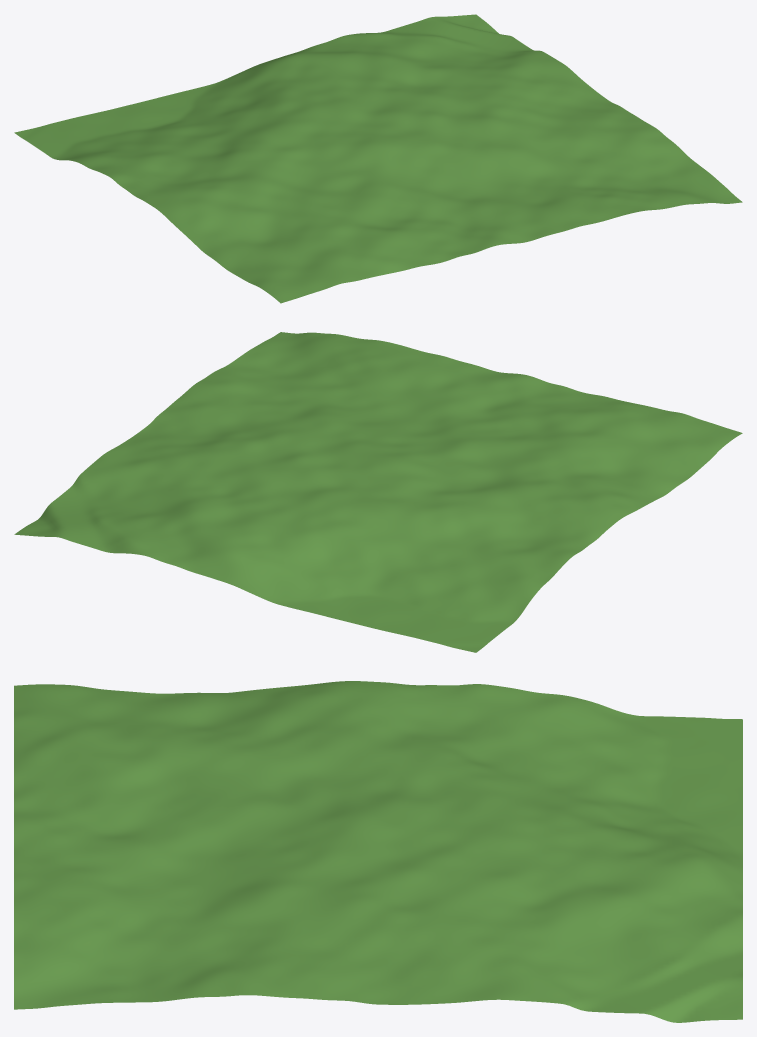
The model's file is SM_Terrain_02_03.fbx.
The picture shows the model from 3 angles, top to bottom: view 1: azimuth 30°, elevation 25°; view 2: azimuth 150°, elevation 25°; view 3: azimuth 270°, elevation 25°; orthographic projection. The views are drawn at different scales.
Visible parts, largest first — view 1: SM_Terrain_02_03; view 2: SM_Terrain_02_03; view 3: SM_Terrain_02_03.
Part boxes in pixels (x1=…): SM_Terrain_02_03: x1=14, y1=14, x2=742, y2=303; SM_Terrain_02_03: x1=14, y1=332, x2=742, y2=652; SM_Terrain_02_03: x1=14, y1=681, x2=742, y2=1022.
Bounding box in the file's own units: 384 × 28.37 × 384.
